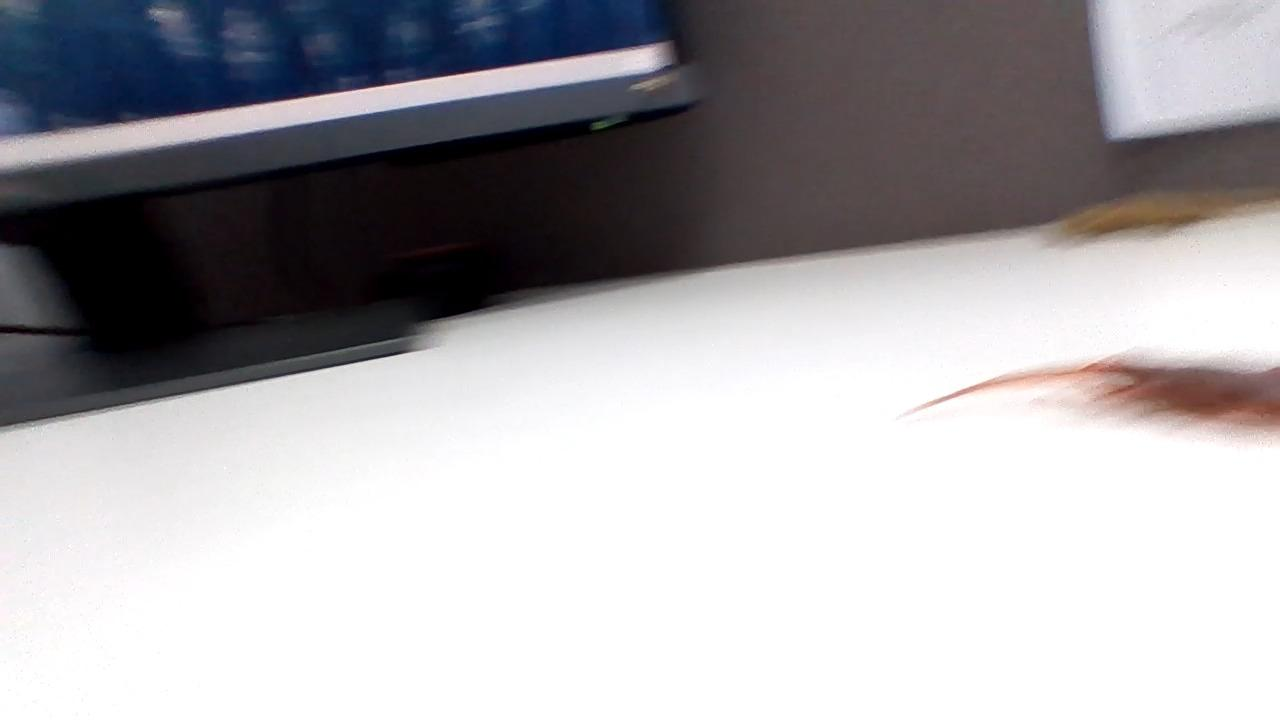cockroach: (918, 342, 1280, 452)
